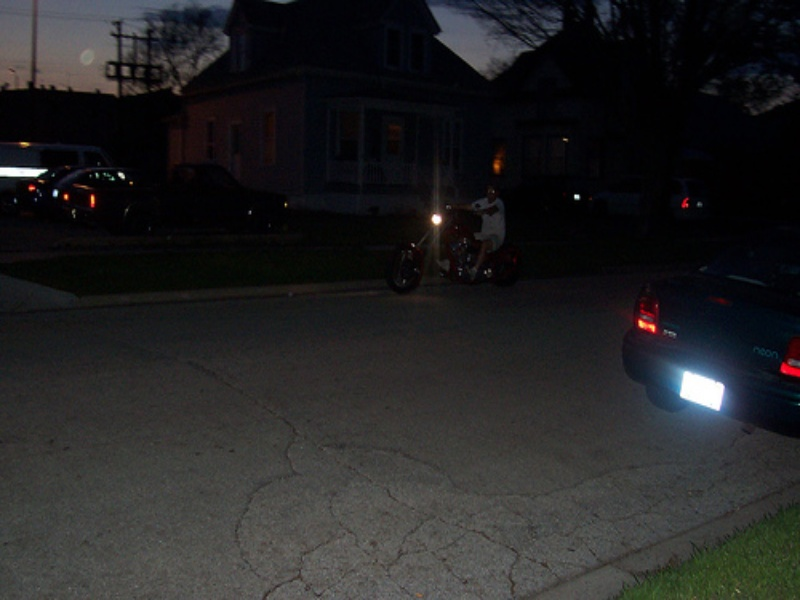car: (621, 244, 800, 437)
person: (455, 187, 505, 278)
